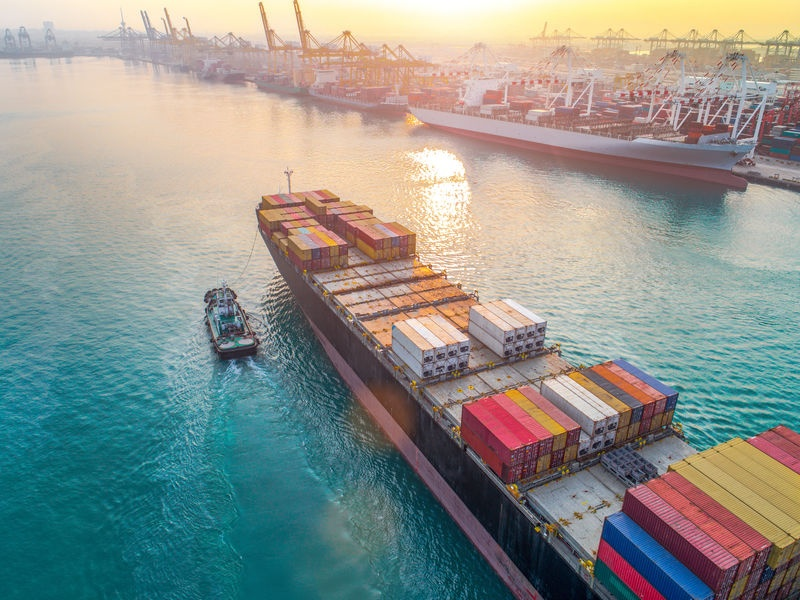Cargoship: (253, 155, 800, 600), (413, 78, 766, 190), (314, 63, 414, 121), (253, 60, 309, 103), (193, 54, 252, 87)
otherboat: (198, 275, 264, 363)
